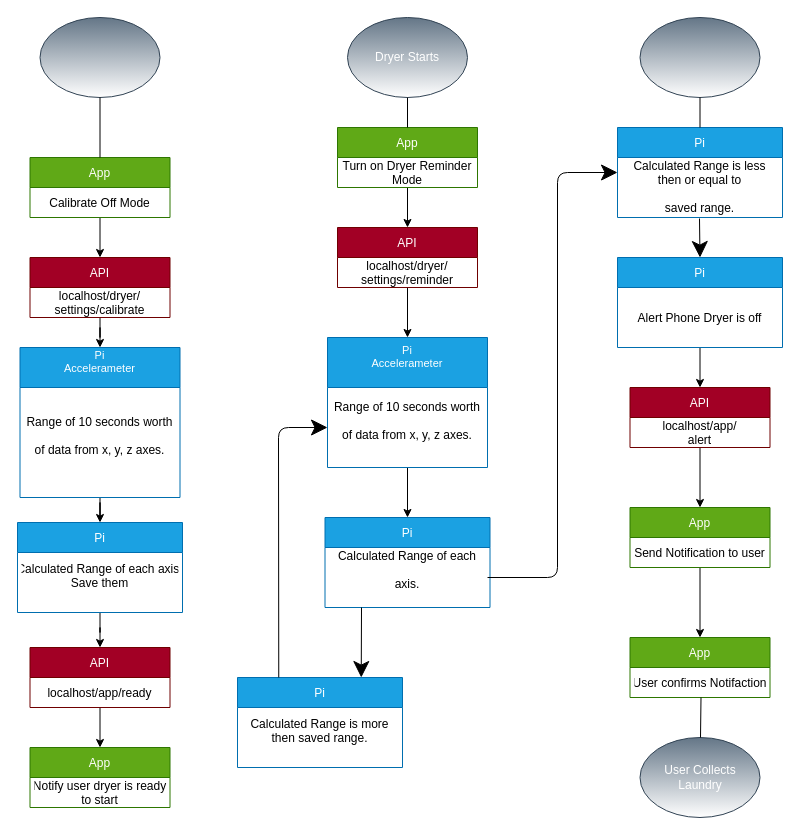
This 800x835 diagram has some shape labels left out. Each missing label, with the centre of its shape:
"Dryer End" goes at pixel 699 57.
"Dryer Off" goes at pixel 99 57.
